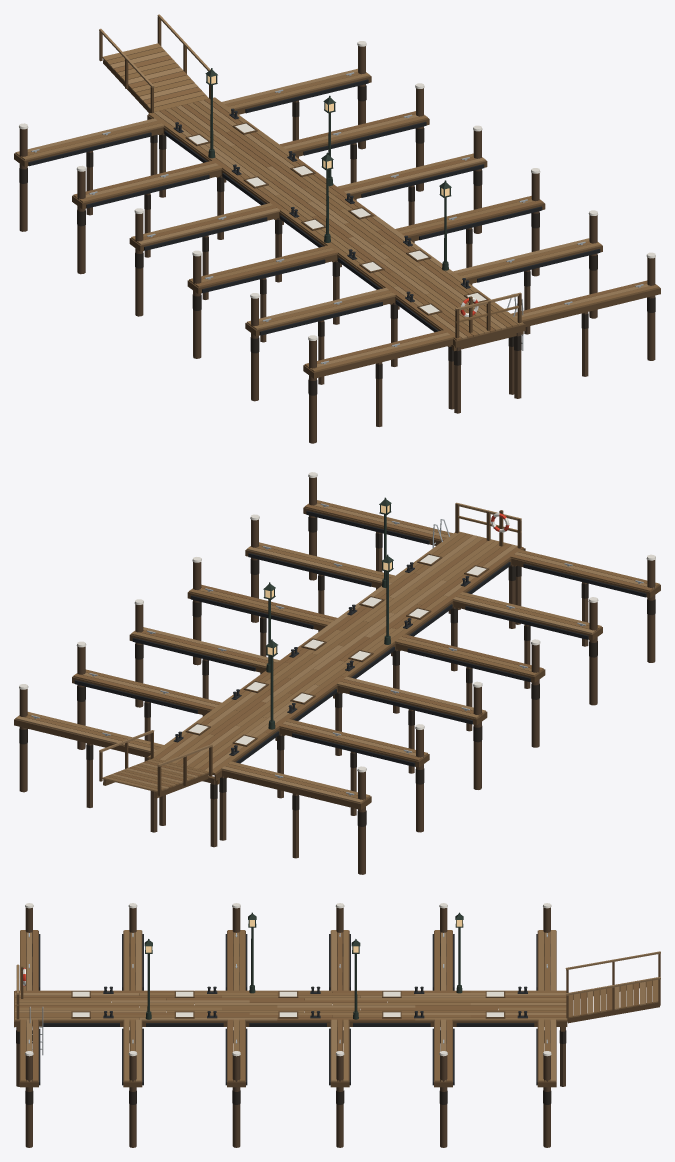
File: boat-pier.glb
3 renders of one model, top to bottom at view 1: azimuth 30°, elevation 25°; view 2: azimuth 150°, elevation 25°; view 3: azimuth 270°, elevation 25°, orthographic. The views are drawn at different scales.
Parts seen in each view (by area): view 1: boat_pier_body; view 2: boat_pier_body; view 3: boat_pier_body.
Part boxes in pixels (x1,y1,x2,y2): boat_pier_body: (14, 14, 660, 443); boat_pier_body: (14, 472, 660, 874); boat_pier_body: (14, 903, 660, 1147).
Bounding box in the file's own units: 12.47 × 5.63 × 22.49.
